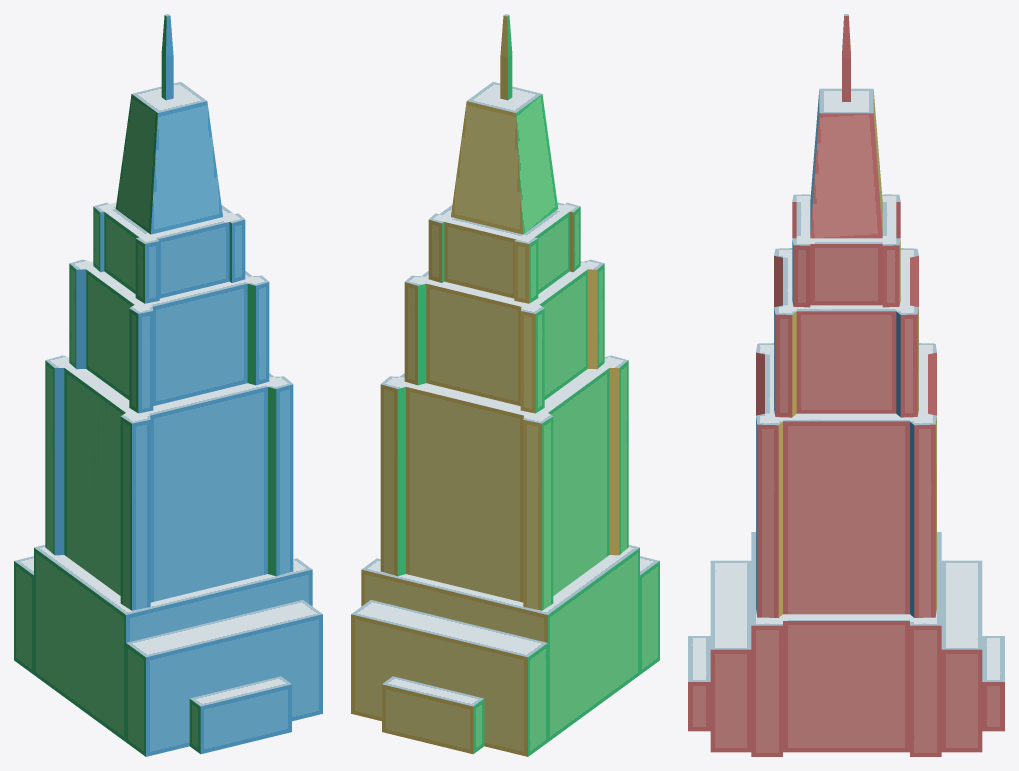
The model's file is skyscraper.gltf.
The picture shows the model from 3 angles, left to right: view 1: azimuth 30°, elevation 25°; view 2: azimuth 150°, elevation 25°; view 3: azimuth 270°, elevation 25°; orthographic projection. The views are drawn at different scales.
Parts seen in each view (by area): view 1: skyscraper; view 2: skyscraper; view 3: skyscraper.
Boxes of the visible parts, x1,y1,x2,y2 form: skyscraper: (14, 14, 322, 756); skyscraper: (351, 14, 659, 756); skyscraper: (688, 14, 1004, 756).
Bounding box in the file's own units: 3.06 × 10.55 × 4.38.
1 material, 1 textured.
